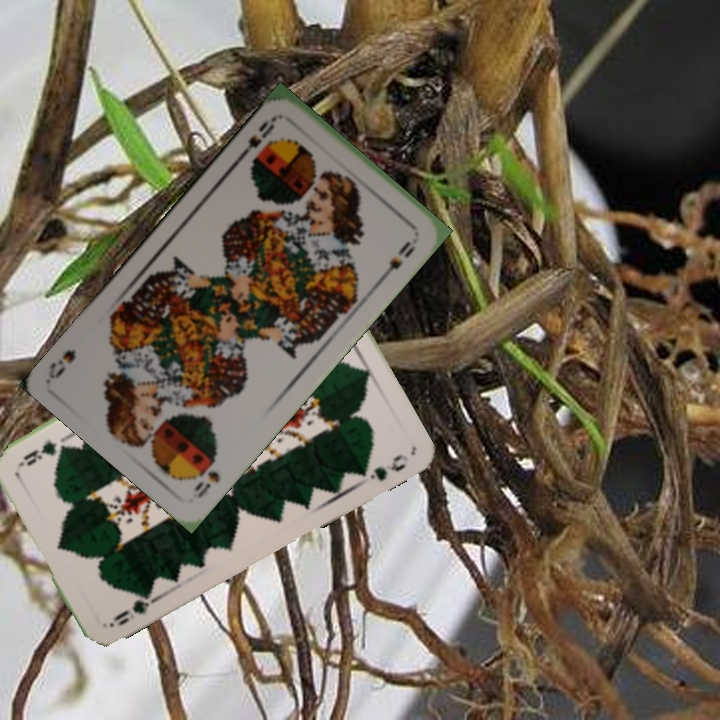G9: (105, 585, 159, 631)
SO: (236, 111, 280, 161), (189, 467, 223, 501)
